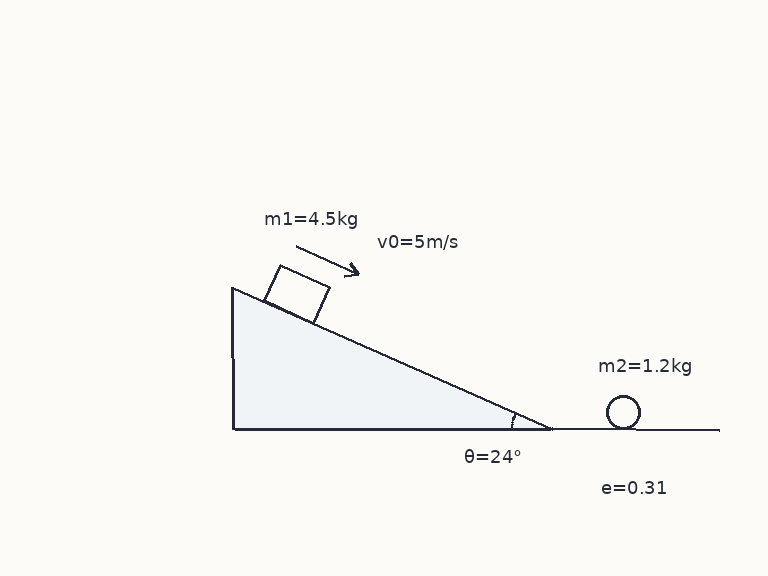ball: (604, 393, 642, 431)
block: (262, 263, 331, 325)
ramp: (231, 285, 554, 431)
